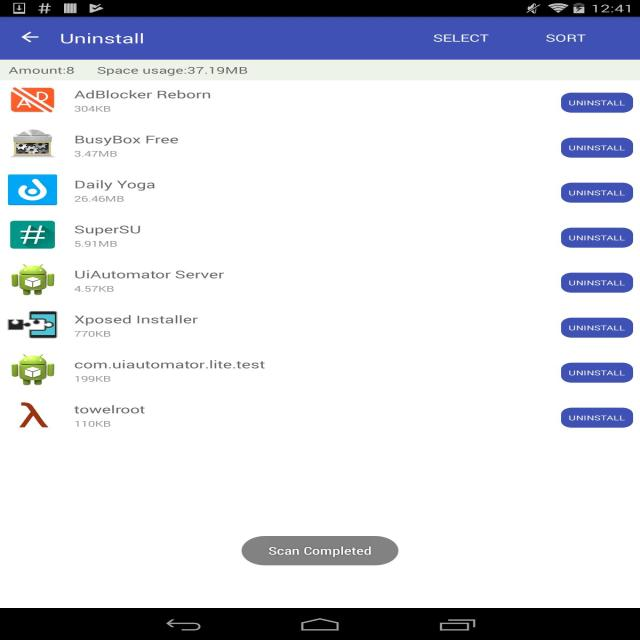button: (532, 28, 604, 53), (560, 225, 632, 250), (562, 316, 634, 340), (558, 92, 634, 114), (560, 272, 634, 294), (559, 137, 634, 158), (559, 181, 634, 202), (424, 27, 496, 48), (560, 362, 632, 383), (561, 407, 633, 428), (14, 25, 50, 51)
heading: (60, 29, 149, 49)
image: (8, 308, 64, 341), (6, 352, 59, 386), (10, 264, 58, 297), (8, 174, 58, 205), (8, 127, 56, 159), (9, 86, 56, 114), (11, 220, 55, 249), (8, 400, 50, 430)
text: (70, 360, 270, 386), (68, 266, 230, 296), (70, 87, 218, 115), (70, 132, 190, 160), (5, 64, 250, 77), (72, 313, 204, 337), (70, 403, 160, 432), (260, 543, 378, 561), (71, 180, 160, 203), (67, 225, 150, 249)
